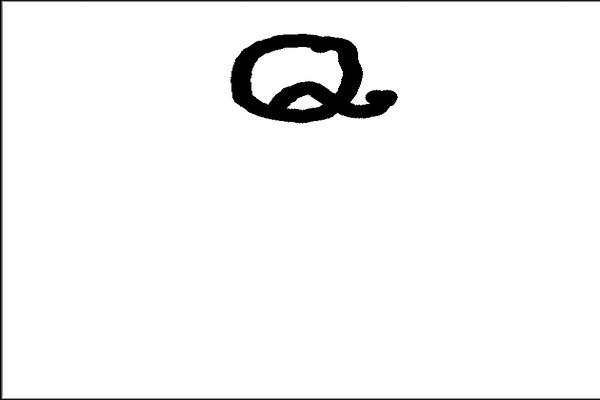Q: (223, 19, 427, 128)
